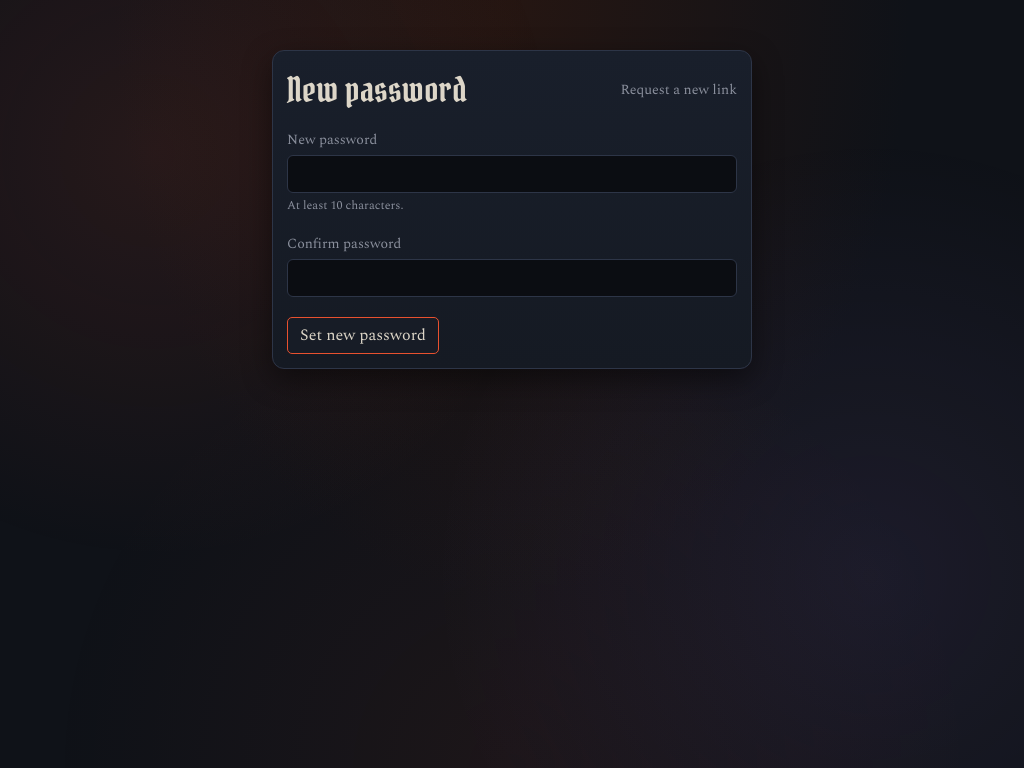
Test: reset password › requires matching passwords
The image size is (1024, 768).
Type "a good password" into the password field labelled "New password At least 10 characters." at x=512, y=174, box x1=287 y1=155 x2=737 y2=193
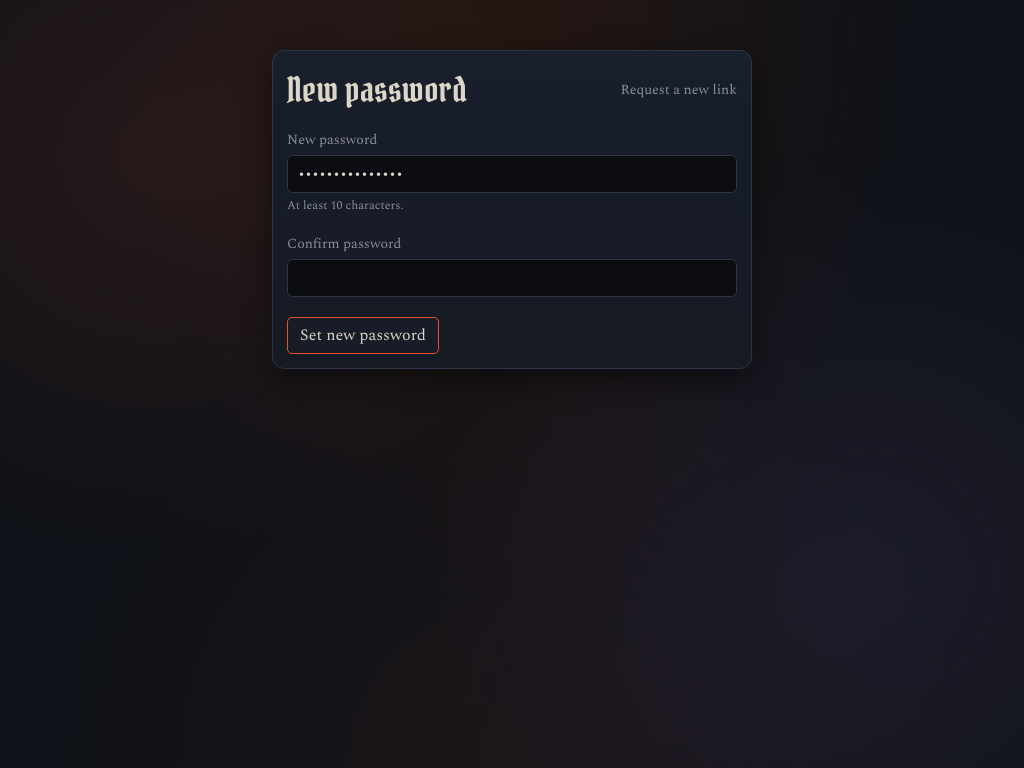
Type "different password" into the password field labelled "Confirm password" at x=512, y=278, box x1=287 y1=259 x2=737 y2=297
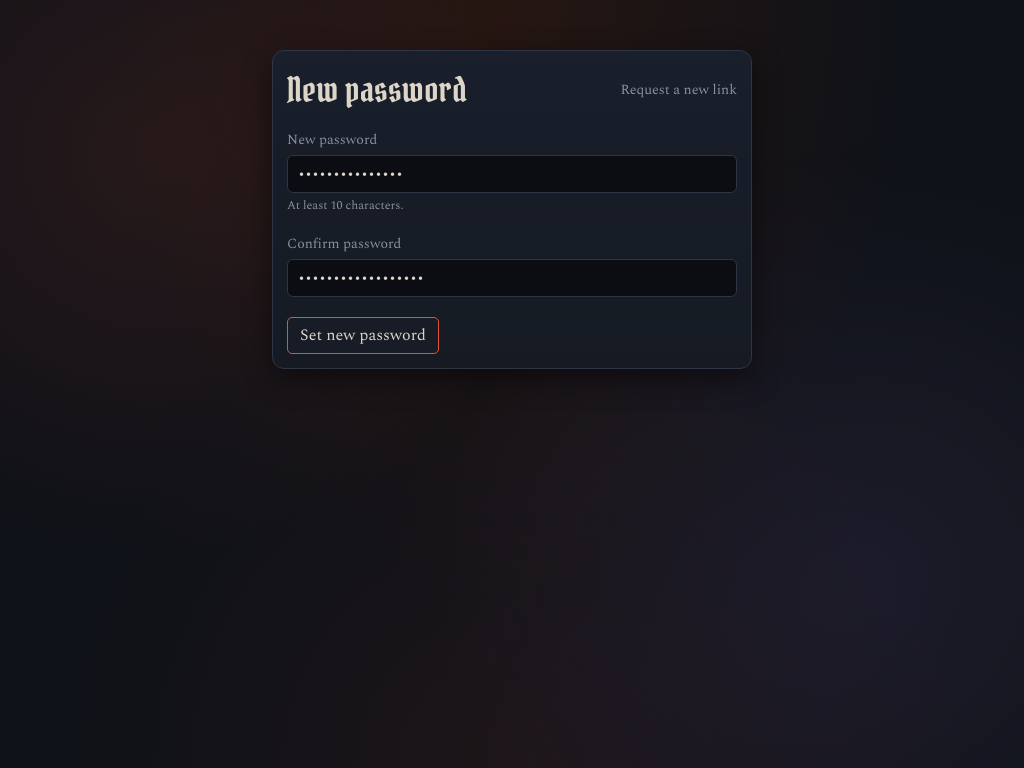
Click the button "Set new password" at x=363, y=336, box x1=287 y1=317 x2=439 y2=354
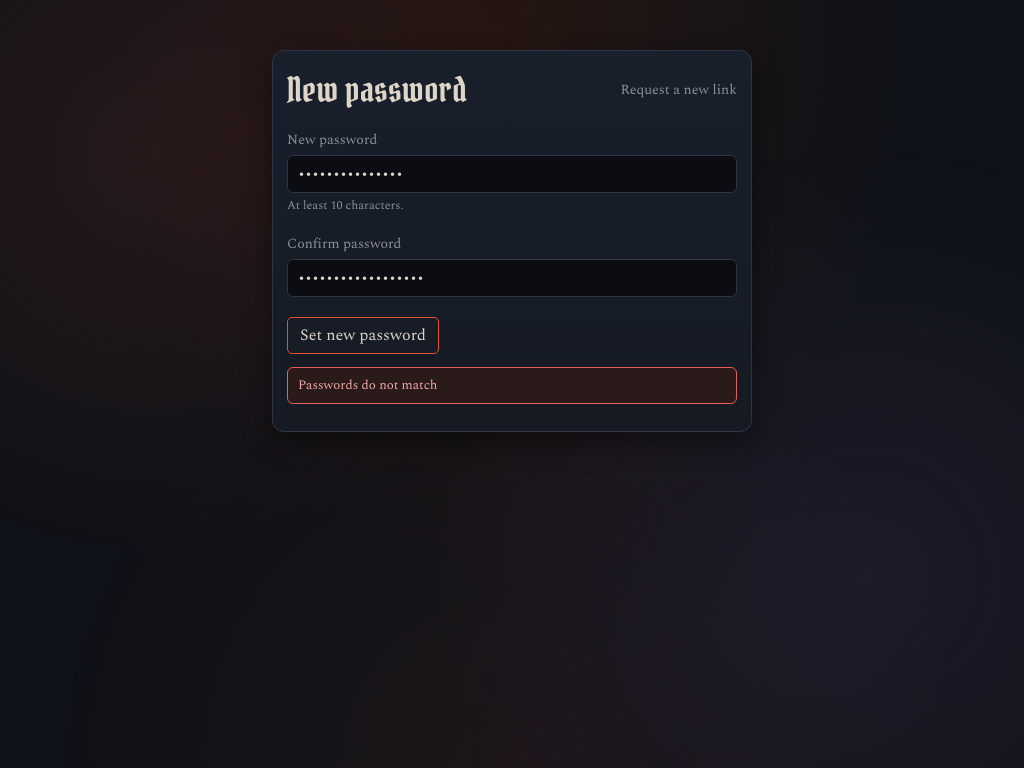
Check: the text "Passwords do not match" is shown, box x1=287 y1=367 x2=737 y2=404
